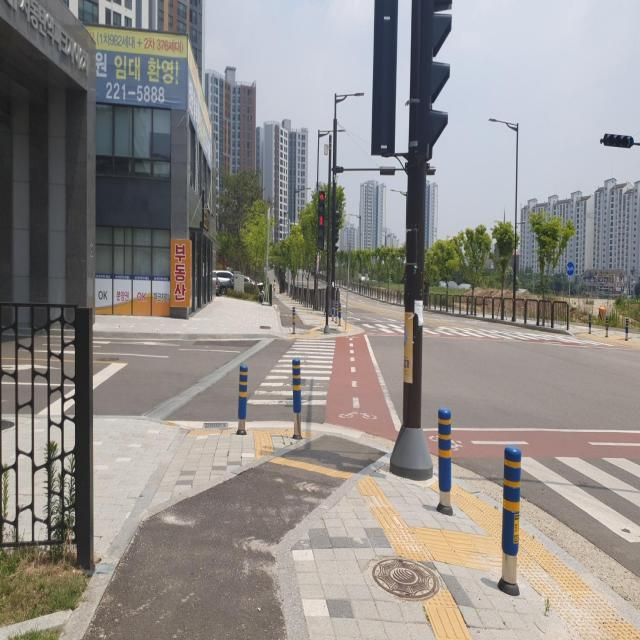빨간불: (316, 214, 324, 250)
횡단보도: (520, 456, 640, 543), (362, 319, 614, 351), (247, 339, 336, 406)
